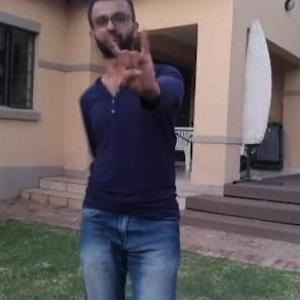takeoff-hand: (104, 21, 164, 102)
